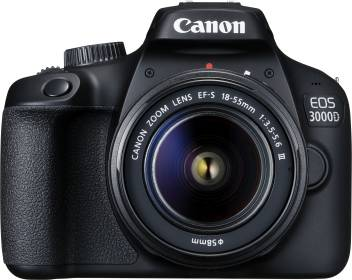kamera: (1, 1, 350, 278)
